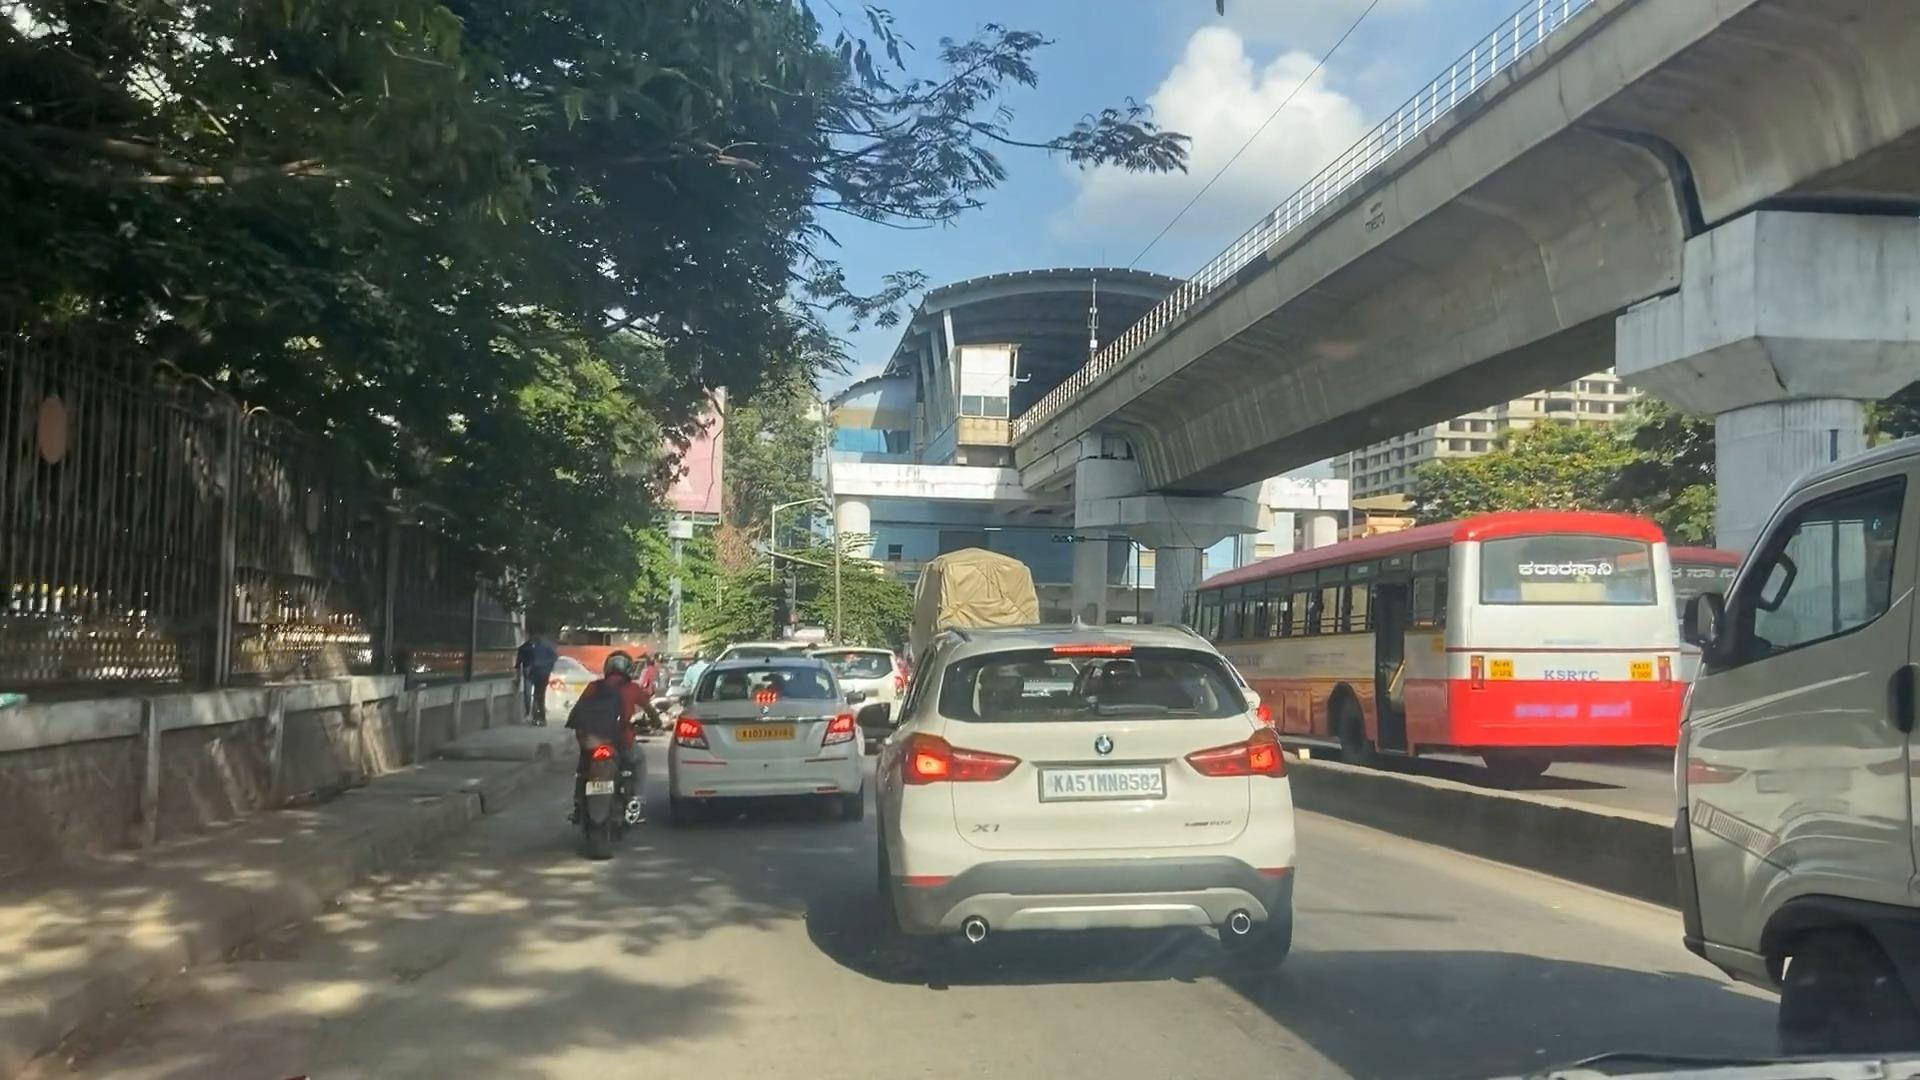HMV: (1200, 451, 1726, 790)
